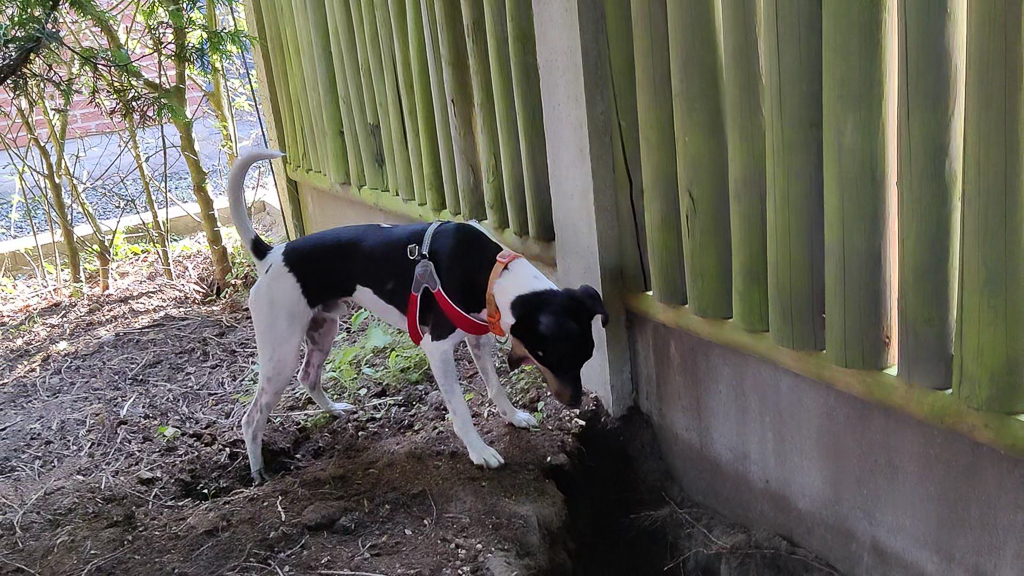Dog: (205, 144, 631, 497)
